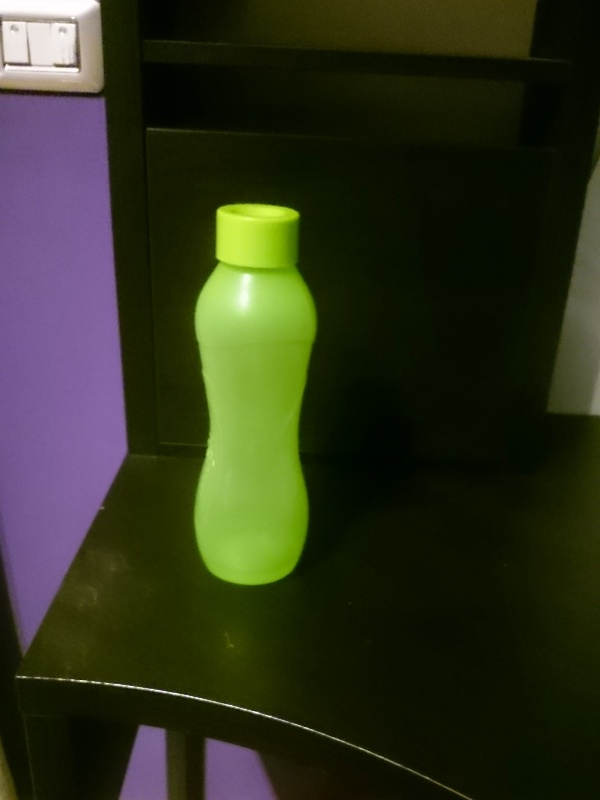my bottle: (190, 204, 319, 588)
